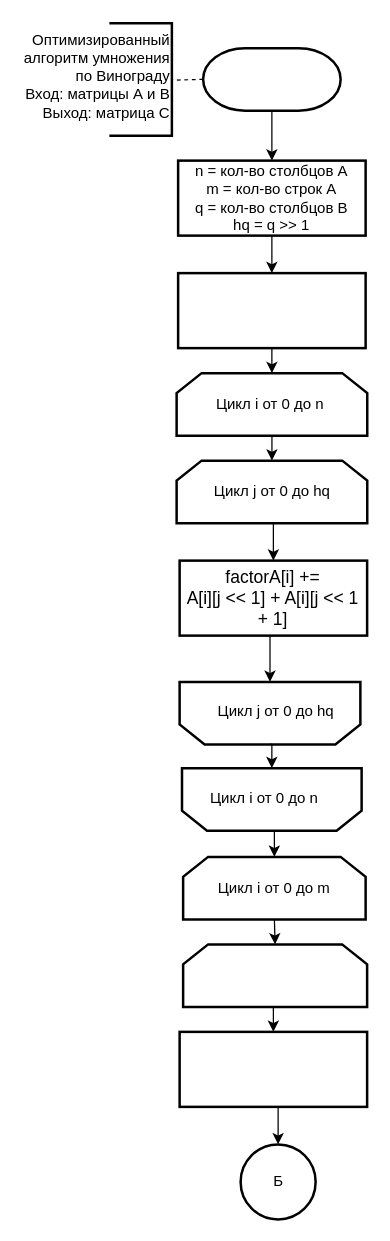
Some shapes in this 390 by 1241 pixel diagram are drawn without their labels. Here are the shapes that lost their labels. From the top down, the centre of each, then its label:
pixel 271 78: Начало
pixel 271 310: Создание массивов factorA длиной n и factorB длиной m
pixel 274 975: Цикл j от 1 до hq
pixel 273 1069: factorB]i] += B[i][j << 1] + B[i][j << 1 + 1]
